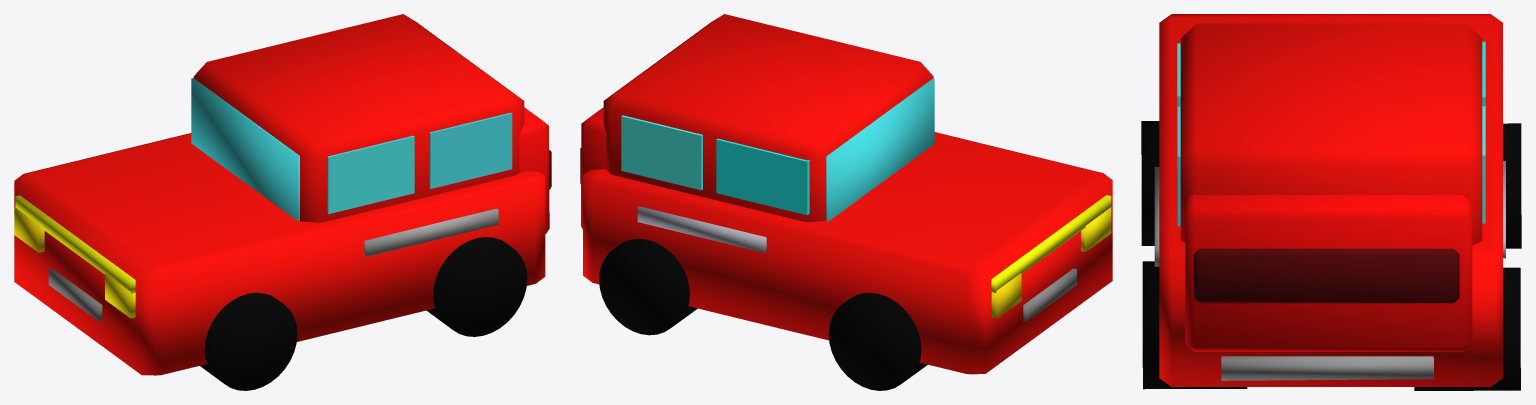
The model's file is project 6_ araba.fbx.
3 renders of one model, left to right at view 1: azimuth 30°, elevation 25°; view 2: azimuth 150°, elevation 25°; view 3: azimuth 270°, elevation 25°, orthographic. The views are drawn at different scales.
Visible parts, largest first — view 1: Cube, Cube.002, Cube.001, Cylinder.001, Cylinder, Cube.013, Cube.014, Cube.017, Cube.007, Cube.003, Cube.008, Cube.006 (+1 smaller); view 2: Cube, Cube.002, Cube.001, Cylinder.003, Cylinder.002, Cube.015, Cube.012, Cube.016, Cube.007, Cube.003, Cube.008, Cube.006 (+1 smaller); view 3: Cube.002, Cube.003, Cube, Cube.011, Cube.009, Cylinder.002, Cylinder.001, Cylinder.003, Cylinder, Cube.017, Cube.014, Cube.012.
Boxes of the visible parts, x1,y1,x2,y2 form: Cube: [14, 133, 545, 375]; Cube.002: [193, 14, 524, 222]; Cube.001: [191, 78, 299, 220]; Cylinder.001: [426, 237, 527, 336]; Cylinder: [200, 292, 297, 390]; Cube.013: [327, 135, 414, 214]; Cube.014: [429, 112, 512, 188]; Cube.017: [364, 208, 498, 256]; Cube.007: [15, 195, 135, 293]; Cube.003: [519, 107, 549, 233]; Cube.008: [48, 268, 102, 321]; Cube.006: [14, 207, 44, 252]; Cube: [583, 132, 1112, 374]; Cube.002: [603, 14, 933, 222]; Cube.001: [826, 79, 934, 221]; Cylinder.003: [828, 292, 927, 390]; Cylinder.002: [599, 238, 697, 335]; Cube.015: [716, 138, 809, 214]; Cube.012: [621, 115, 702, 190]; Cube.016: [637, 206, 766, 253]; Cube.007: [991, 195, 1111, 292]; Cube.003: [581, 107, 606, 228]; Cube.008: [1023, 268, 1076, 321]; Cube.006: [991, 273, 1021, 318]; Cube.002: [1180, 23, 1482, 245]; Cube.003: [1185, 194, 1472, 351]; Cube: [1159, 14, 1502, 386]; Cube.011: [1193, 248, 1459, 303]; Cube.009: [1221, 356, 1433, 380]; Cylinder.002: [1414, 267, 1520, 390]; Cylinder.001: [1142, 261, 1247, 389]; Cylinder.003: [1503, 123, 1521, 248]; Cylinder: [1141, 121, 1159, 245]; Cube.017: [1154, 167, 1159, 266]; Cube.014: [1177, 106, 1180, 226]; Cube.012: [1482, 106, 1485, 223].
Size of what is drawn, in the model's own units: 1937 by 934 by 1193.
